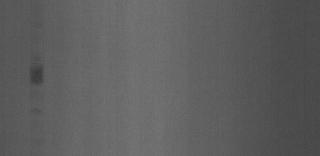oil spot: (27, 56, 47, 90)
